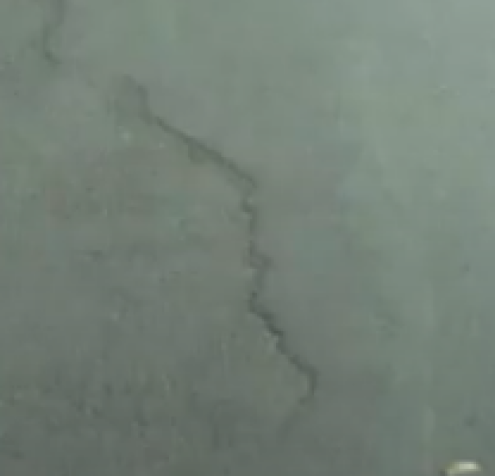Retak Memanjang: (24, 1, 330, 422)
